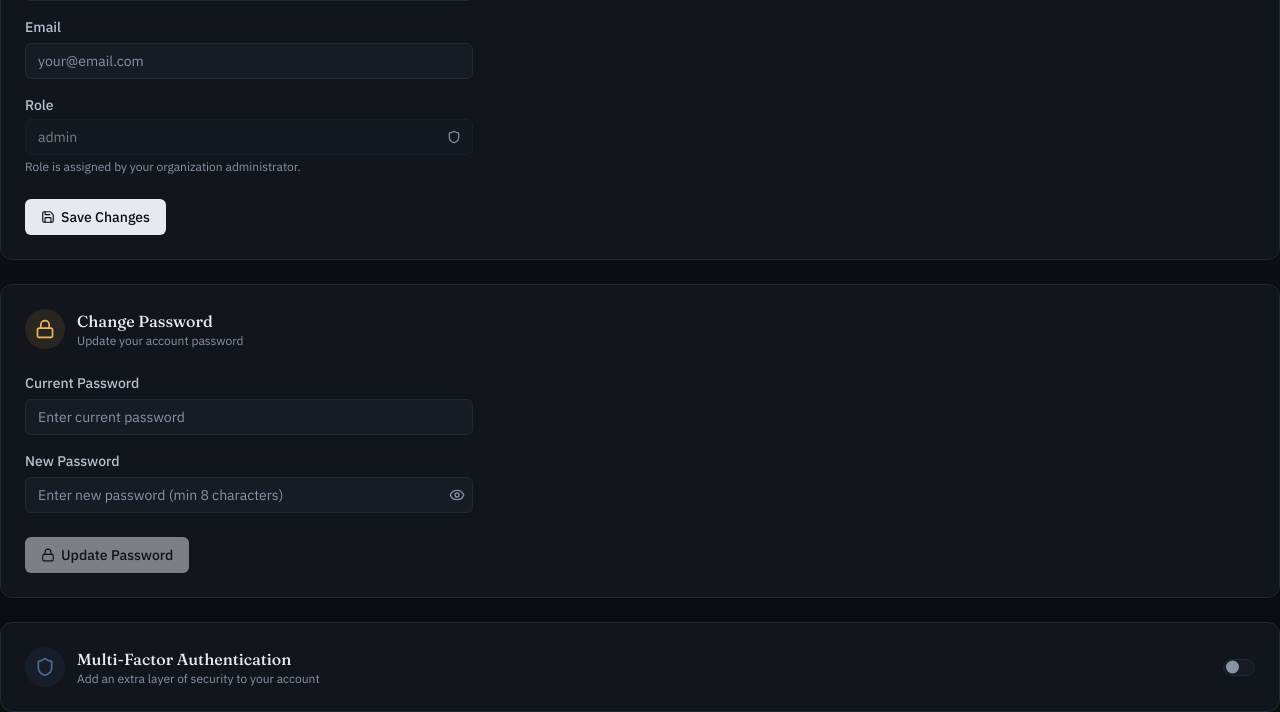
AccountPage › opens MFA confirmation dialog when toggling MFA
(page scrolled)
Click the switch.
click(1239, 667)  # box [1223,658,1255,676]
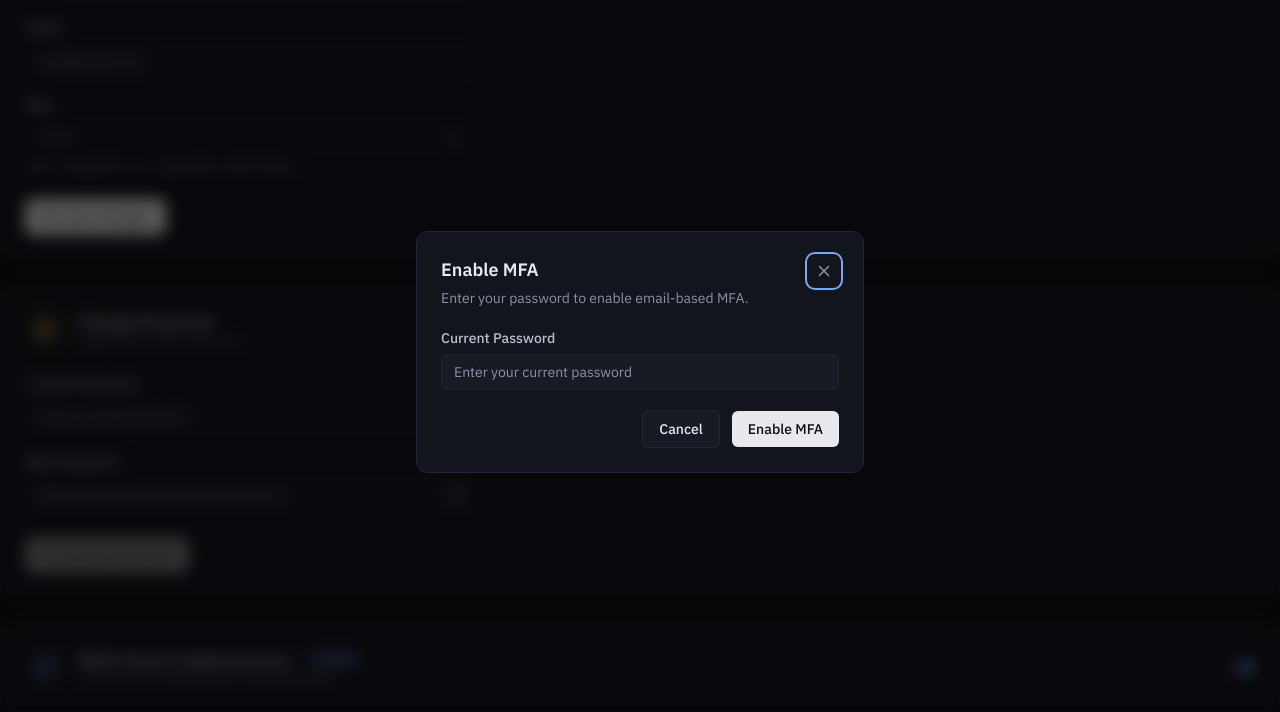
Expected: the dialog is shown, [416,231,864,473]
